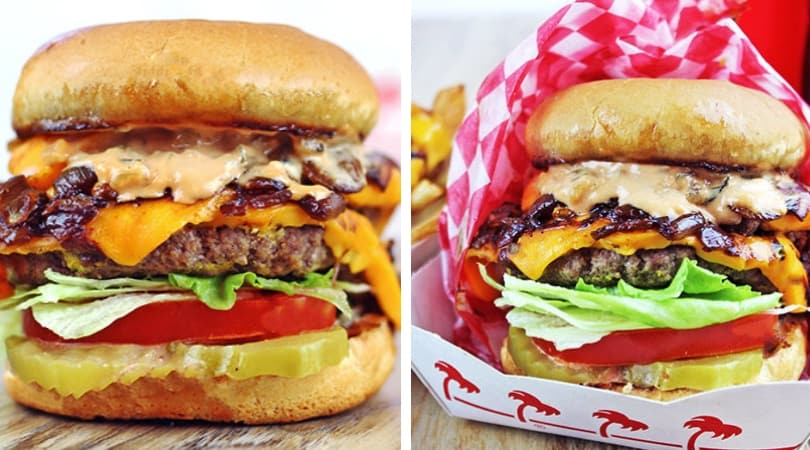hamburger_buns: (1, 10, 389, 142), (11, 342, 388, 433), (500, 80, 789, 163)
